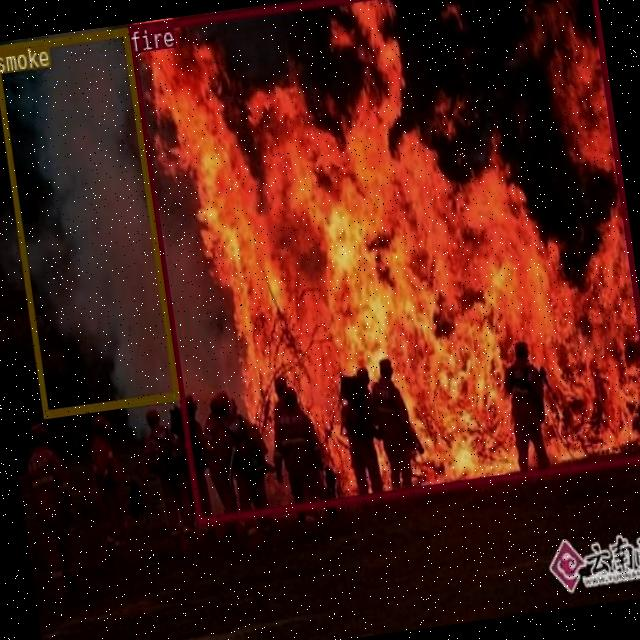fire: (125, 0, 640, 523)
smoke: (0, 26, 179, 417)
